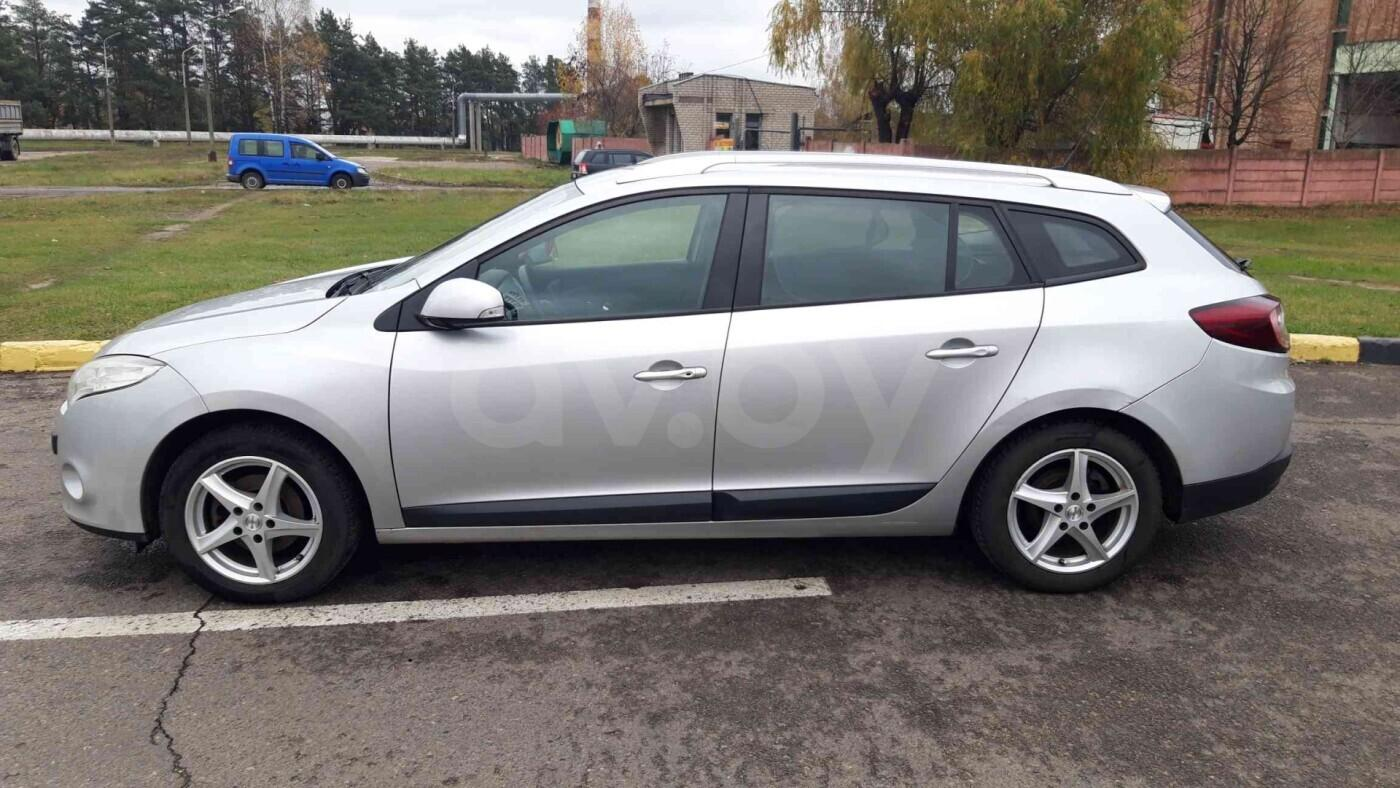Megane_2008-2014: (32, 146, 1303, 594)
